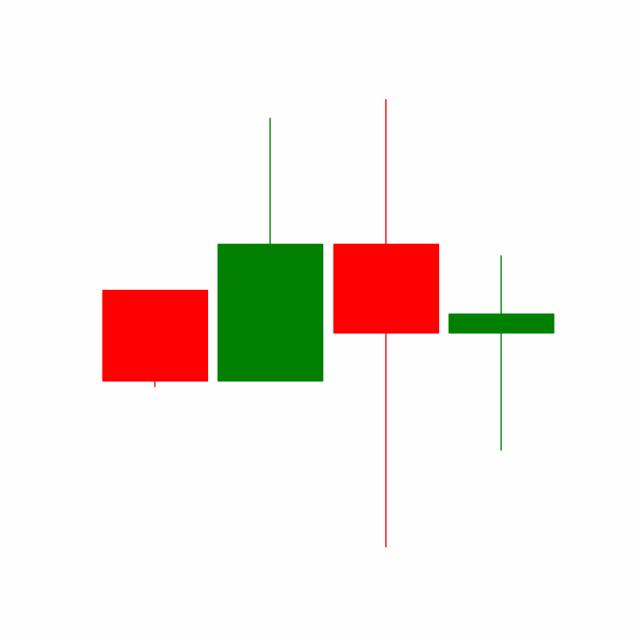Spinning Top: (443, 253, 559, 454)
